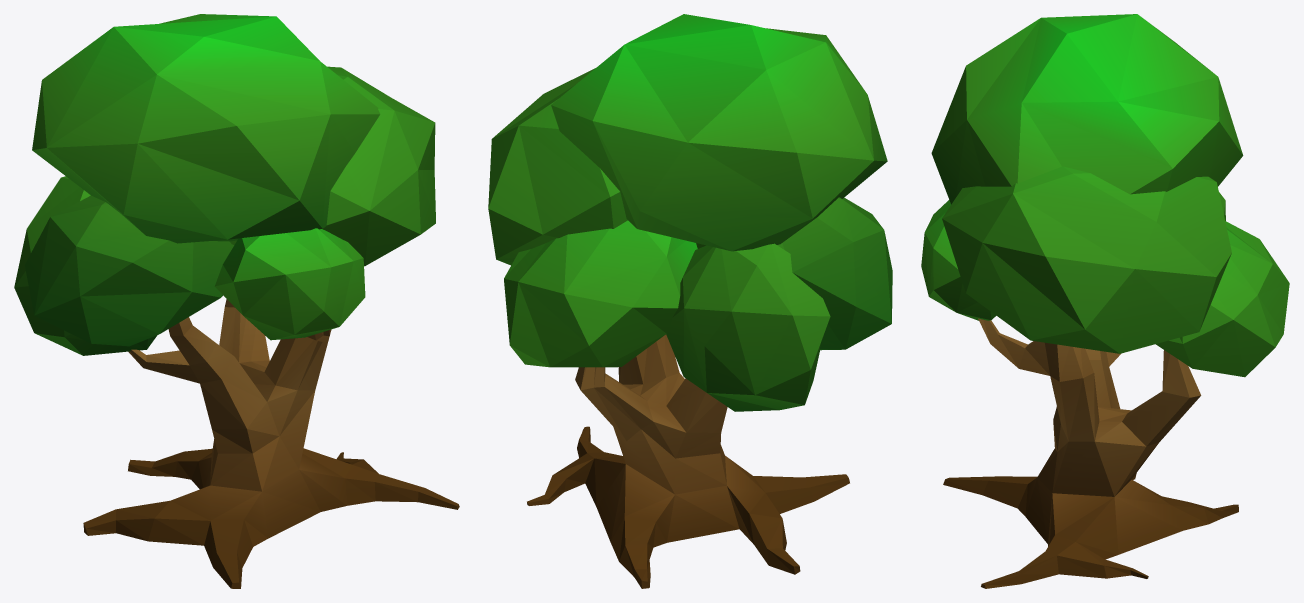
Rendered from BigTree.FBX.
The picture shows the model from 3 angles, left to right: view 1: azimuth 30°, elevation 25°; view 2: azimuth 150°, elevation 25°; view 3: azimuth 270°, elevation 25°; orthographic projection. The views are drawn at different scales.
Parts seen in each view (by area): view 1: BigTree; view 2: BigTree; view 3: BigTree.
Boxes of the visible parts, bbox=[...] form: BigTree: bbox=[14, 14, 459, 588]; BigTree: bbox=[488, 14, 892, 588]; BigTree: bbox=[921, 14, 1289, 588].
Bounding box in the file's own units: 334 × 406 × 288.
